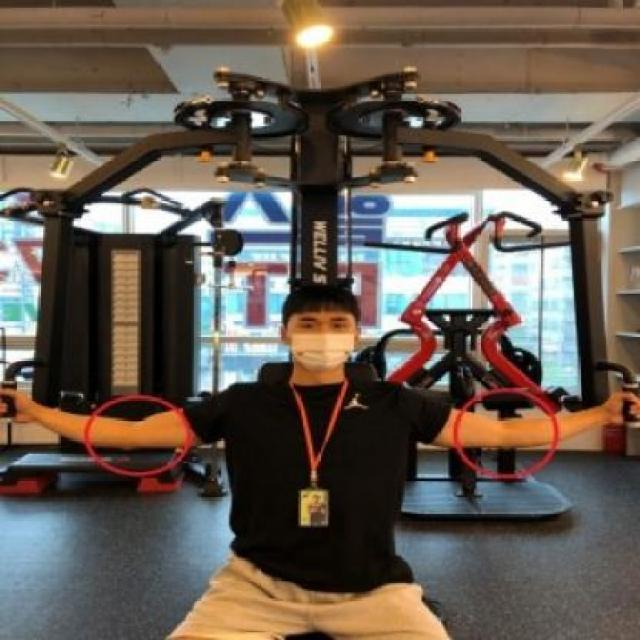chest fly machine: (0, 68, 625, 630)
